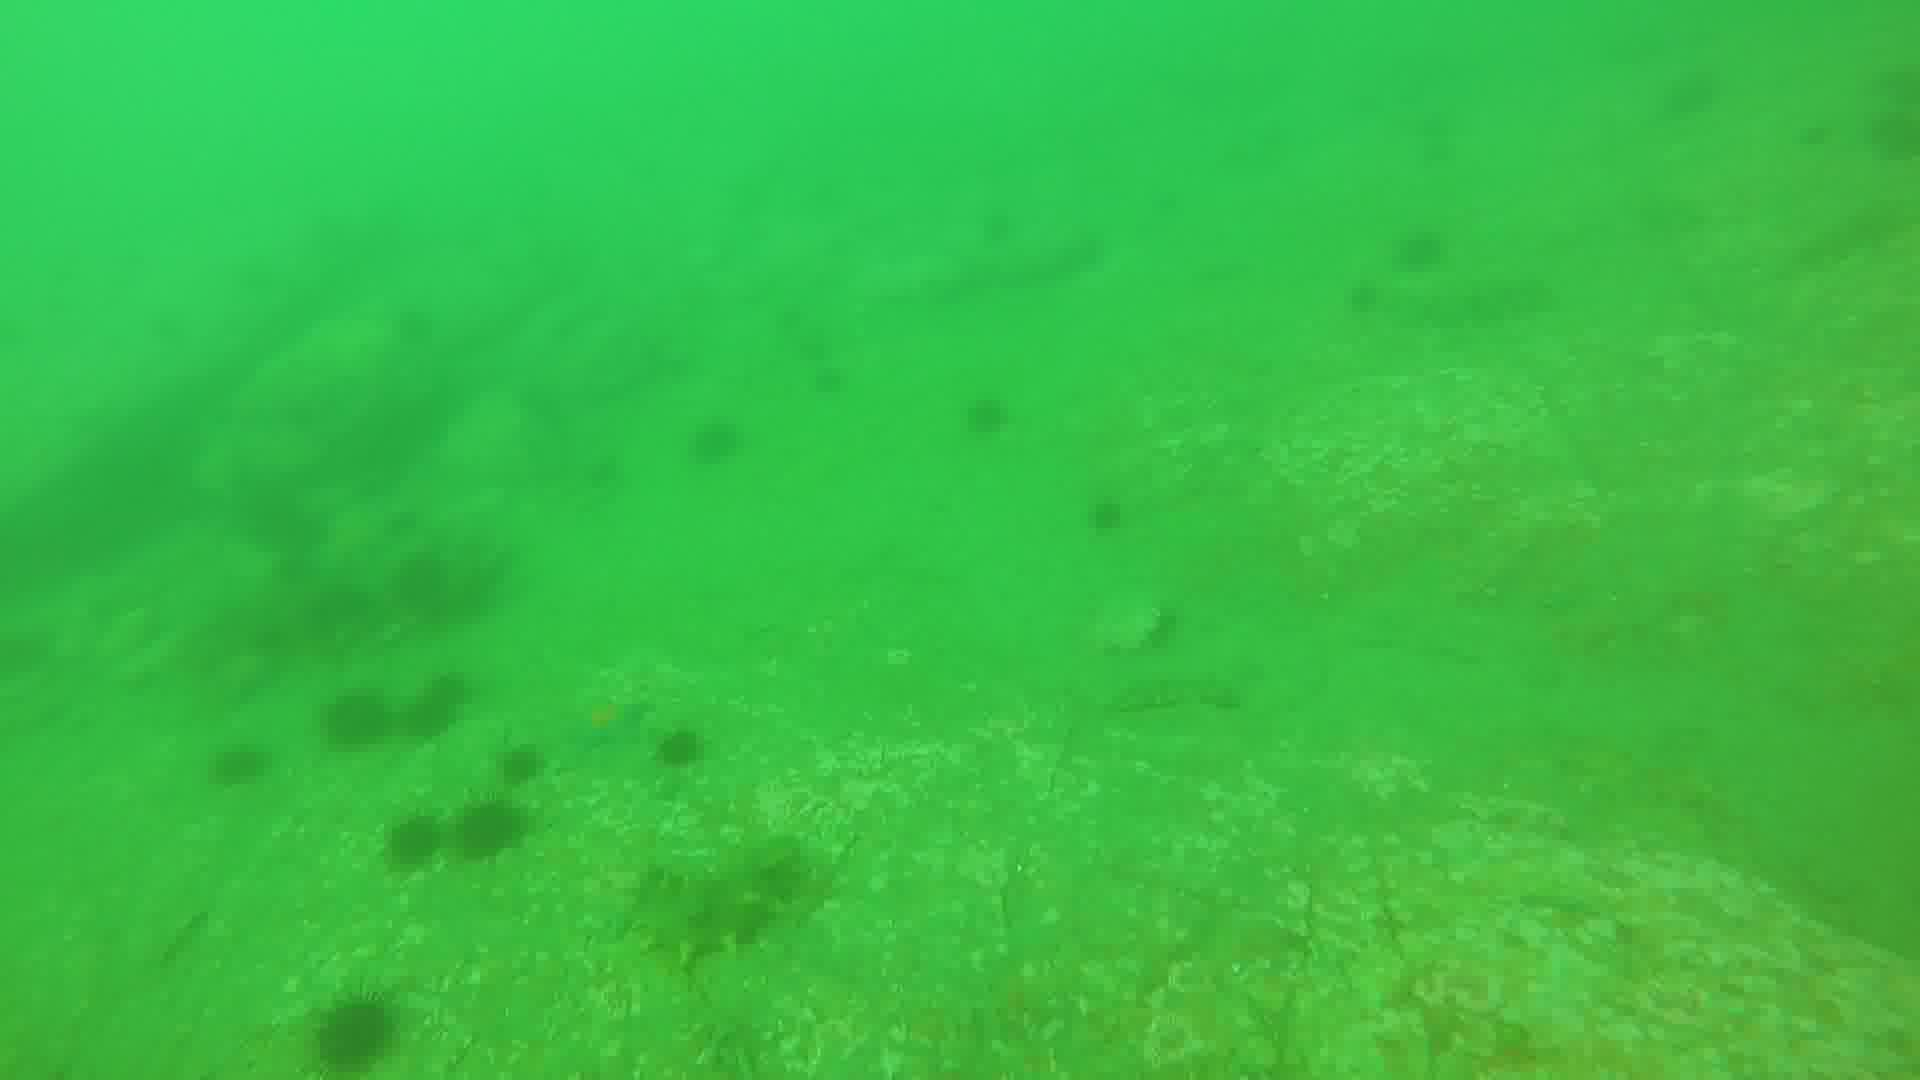echinus: (309, 994, 398, 1080), (444, 796, 530, 858), (380, 814, 458, 869), (396, 686, 469, 742), (319, 690, 392, 742), (491, 740, 556, 793), (651, 719, 711, 770), (692, 415, 752, 462), (208, 744, 258, 793), (1391, 225, 1443, 272), (961, 396, 1011, 436), (1091, 491, 1122, 530)
holothurian: (629, 877, 770, 963)
starfish: (568, 698, 650, 752)
